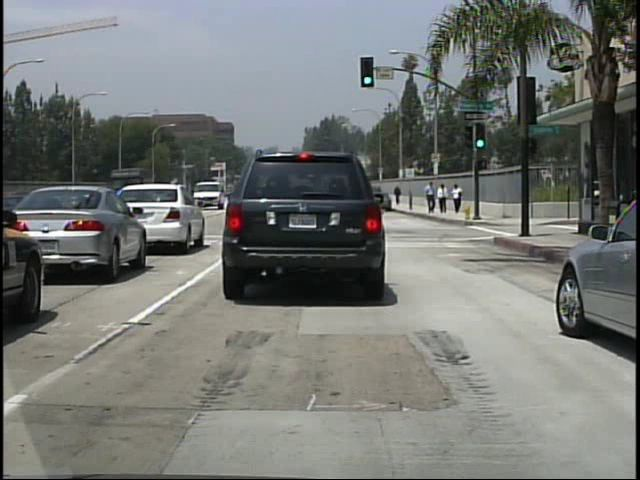person: (426, 180, 438, 216), (452, 183, 465, 215), (439, 183, 451, 215), (393, 185, 402, 207)
